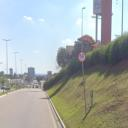speed_limit_50: (78, 52, 86, 62)
